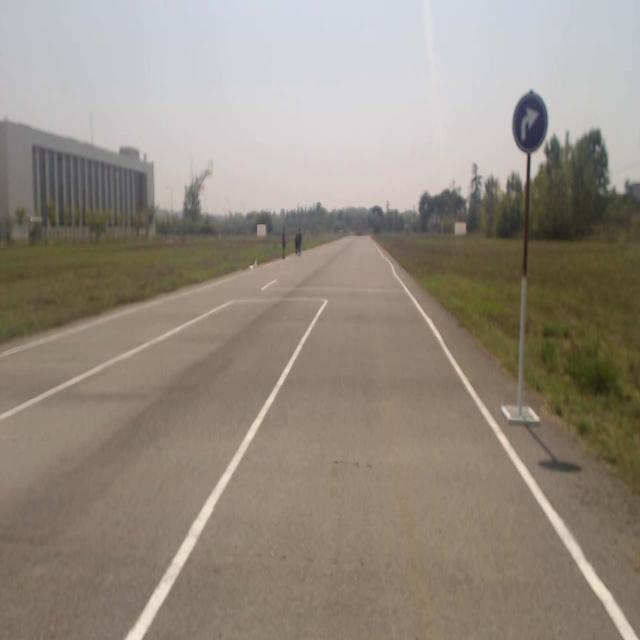sag: (514, 96, 546, 150)
